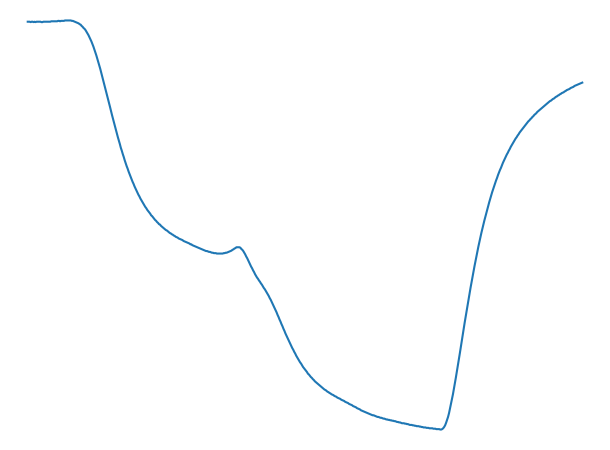decrease: (57, 9, 96, 47), (221, 239, 262, 266)
increase: (427, 415, 453, 438)
